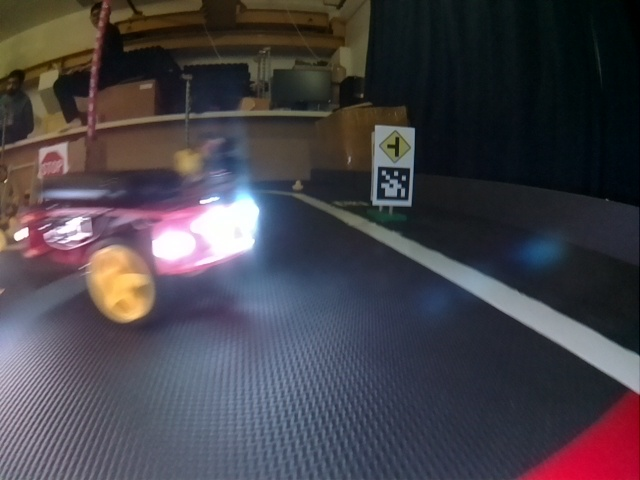Duckie: (292, 180, 302, 190)
Duckiebot: (26, 173, 261, 328)
Intersection sign: (377, 129, 412, 165)
QR code: (374, 166, 411, 200), (334, 200, 366, 208)
Stop sign: (39, 147, 66, 175)
